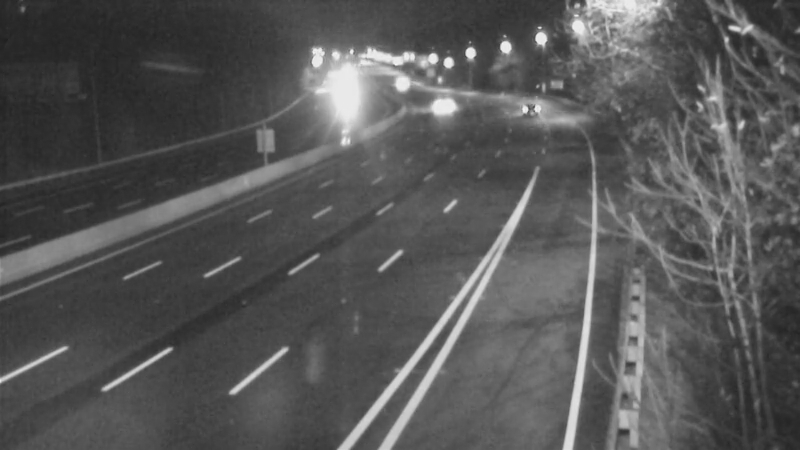vehicle: (377, 58, 427, 108), (504, 80, 554, 130), (420, 83, 470, 133), (322, 73, 372, 123)
